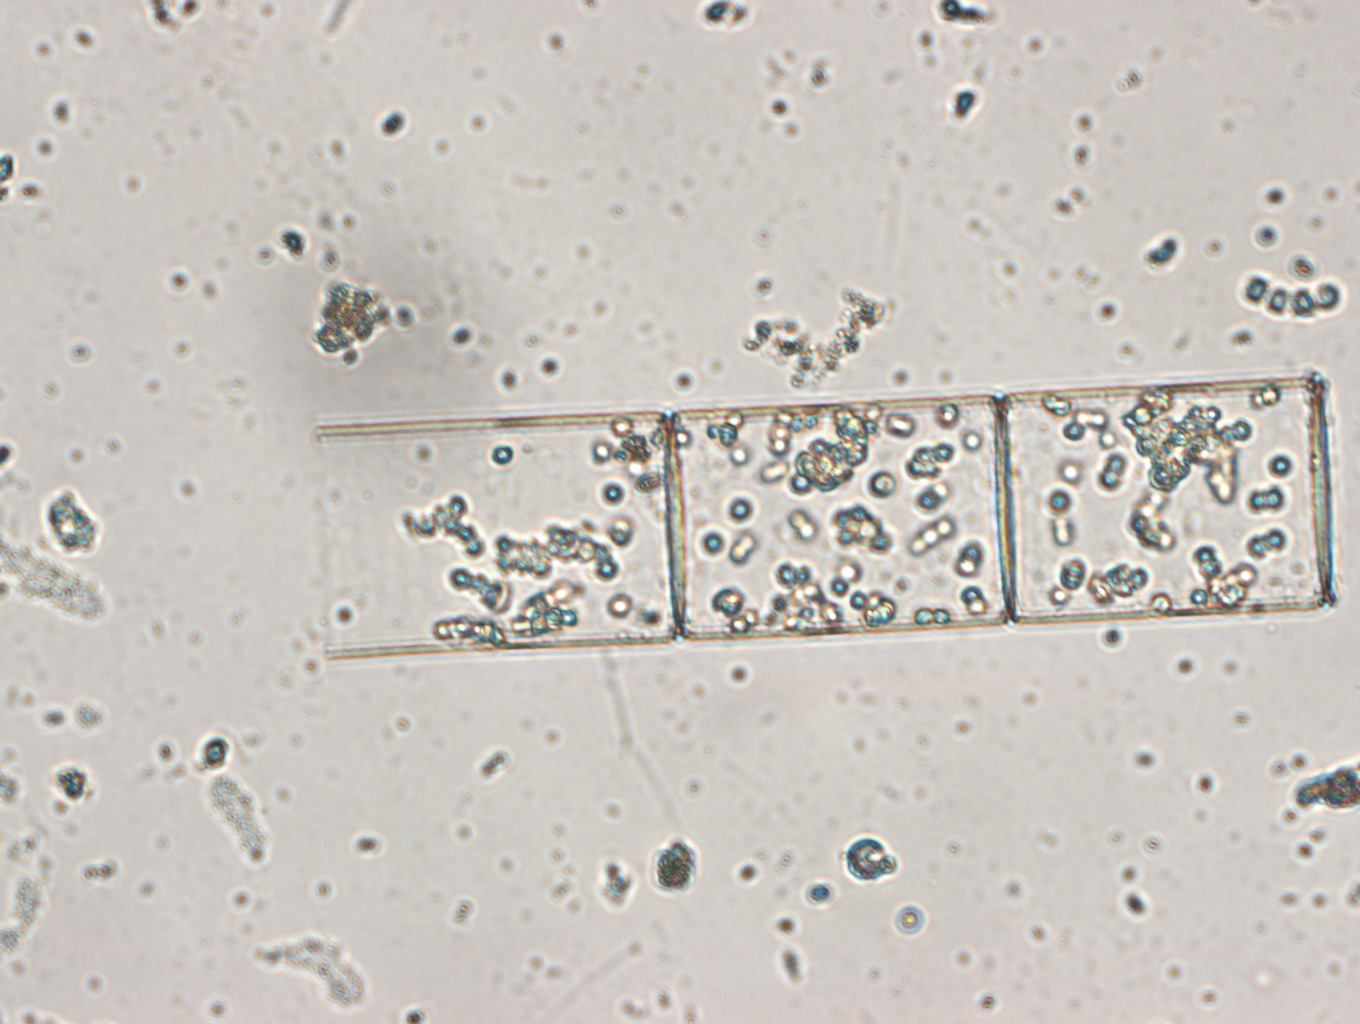guinardia flaccida: (313, 373, 1347, 654)
